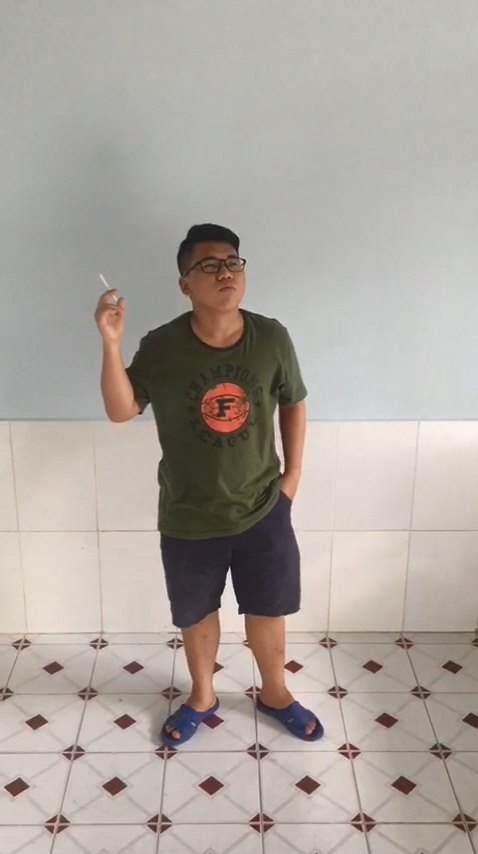cigarette: (99, 267, 127, 307)
person: (66, 201, 357, 765)
